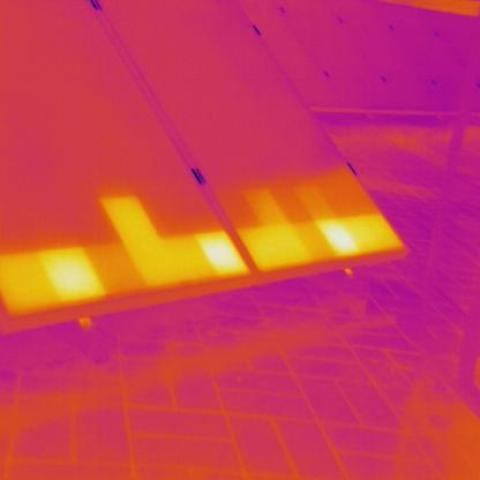fault: (46, 248, 97, 294), (197, 236, 241, 267), (318, 218, 358, 252)
